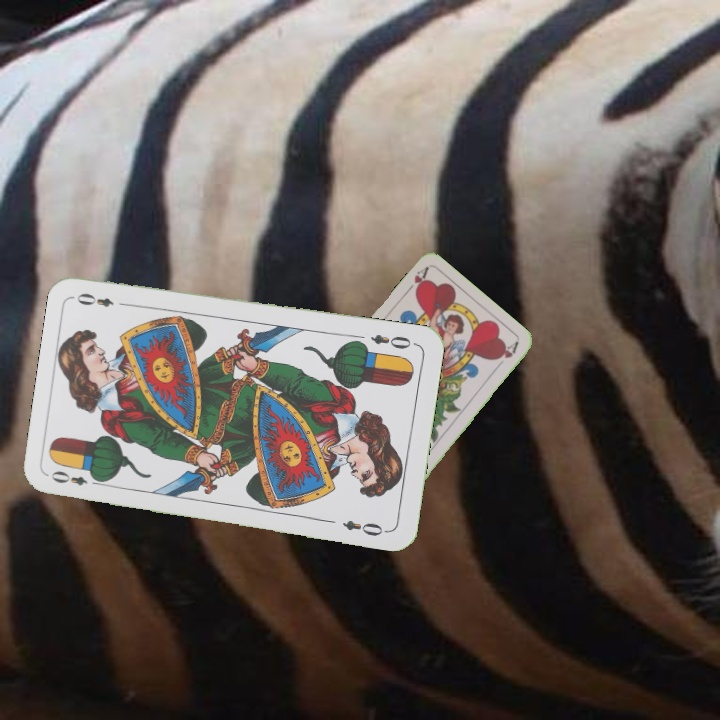EO: (47, 467, 106, 489), (366, 330, 419, 352)
HA: (400, 264, 431, 298)
